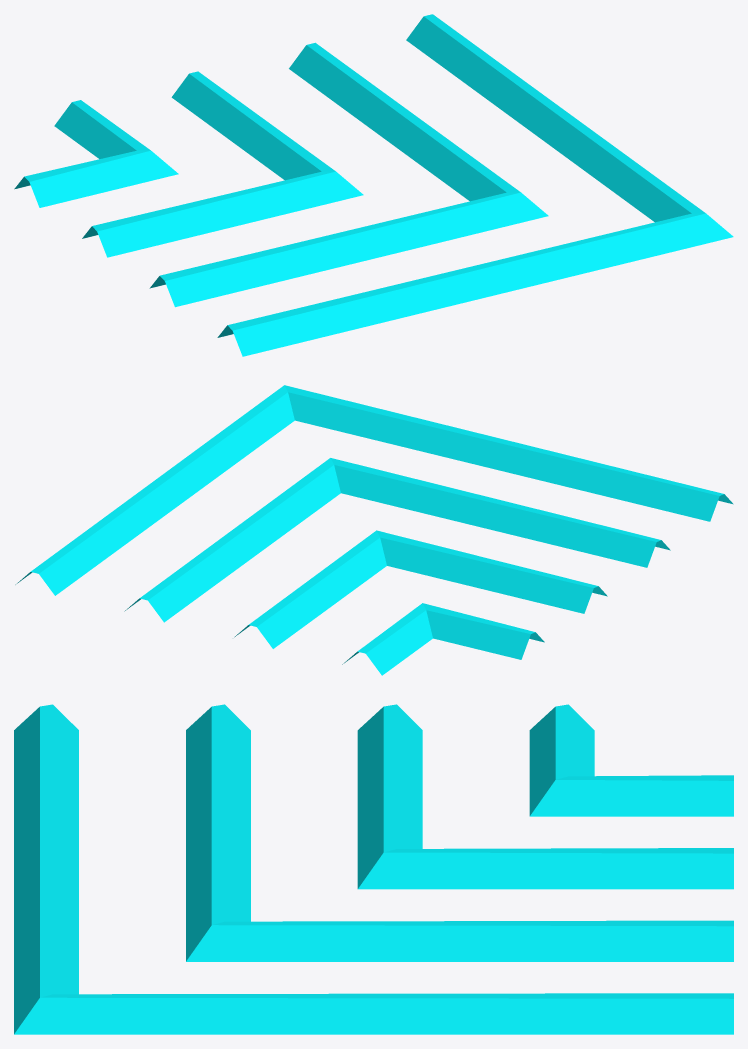
The model's file is Deco Wire L.fbx.
3 views of the same model, one above another, from view 1: azimuth 30°, elevation 25°; view 2: azimuth 150°, elevation 25°; view 3: azimuth 270°, elevation 25° (orthographic). The views are drawn at different scales.
Parts seen in each view (by area): view 1: Deco Wire L; view 2: Deco Wire L; view 3: Deco Wire L.
Part boxes in pixels (box(x1,y1,x2,y2)): Deco Wire L: box(14, 14, 733, 356); Deco Wire L: box(15, 385, 733, 675); Deco Wire L: box(14, 704, 733, 1034).
Bounding box in the file's own units: 83.78 × 3.32 × 83.78.
